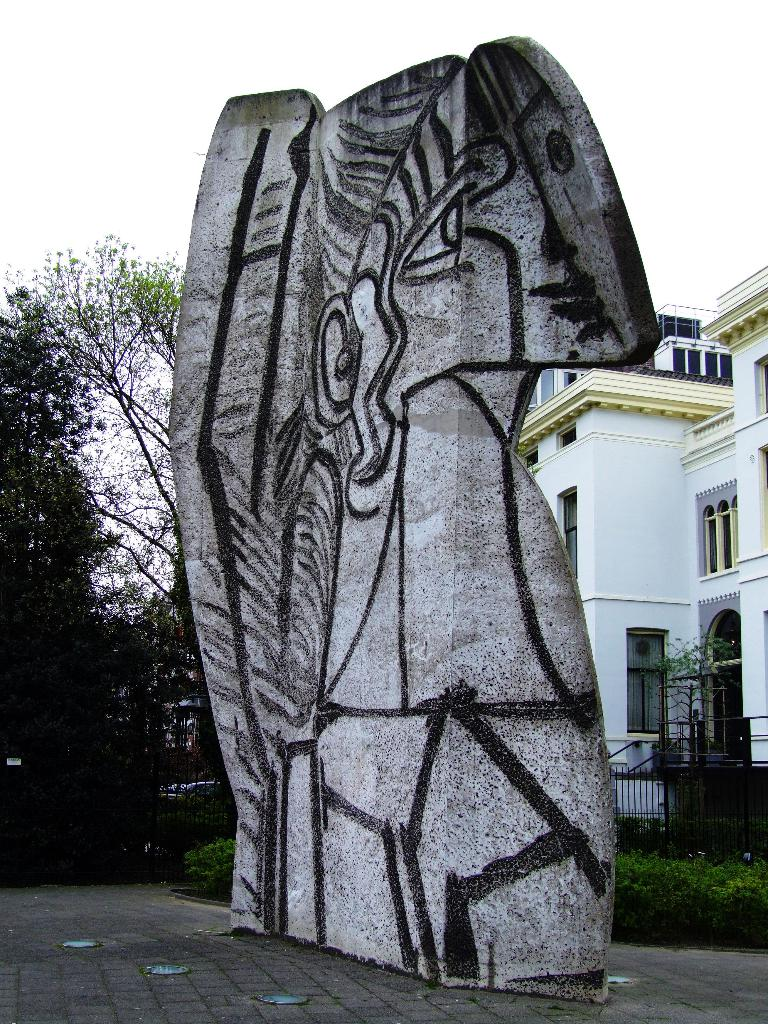Tree: (0, 225, 197, 769), (0, 308, 175, 831), (645, 633, 743, 791)
